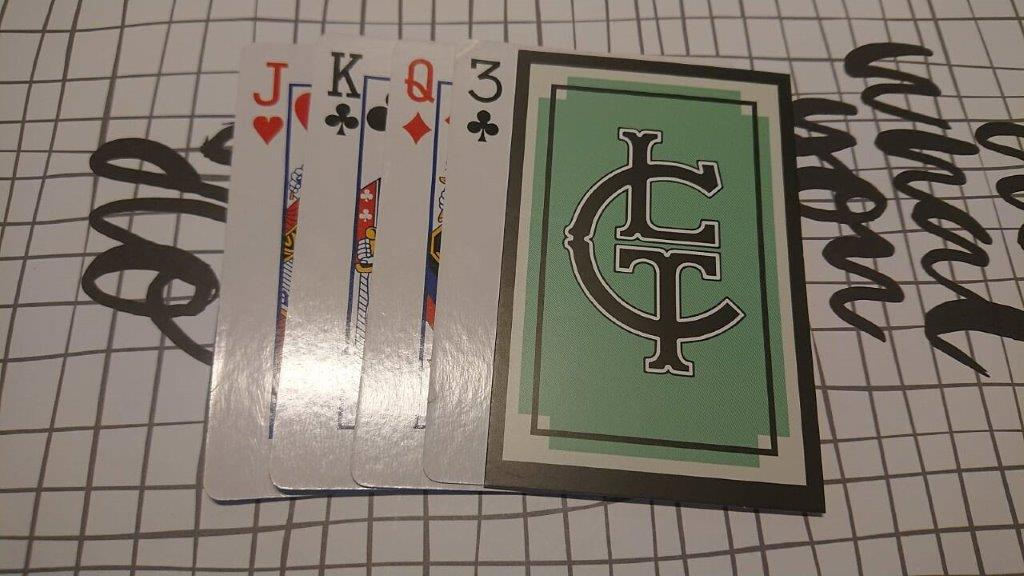3C: (462, 55, 505, 145)
JH: (246, 58, 292, 151)
KC: (319, 47, 366, 140)
QD: (396, 54, 440, 151)
